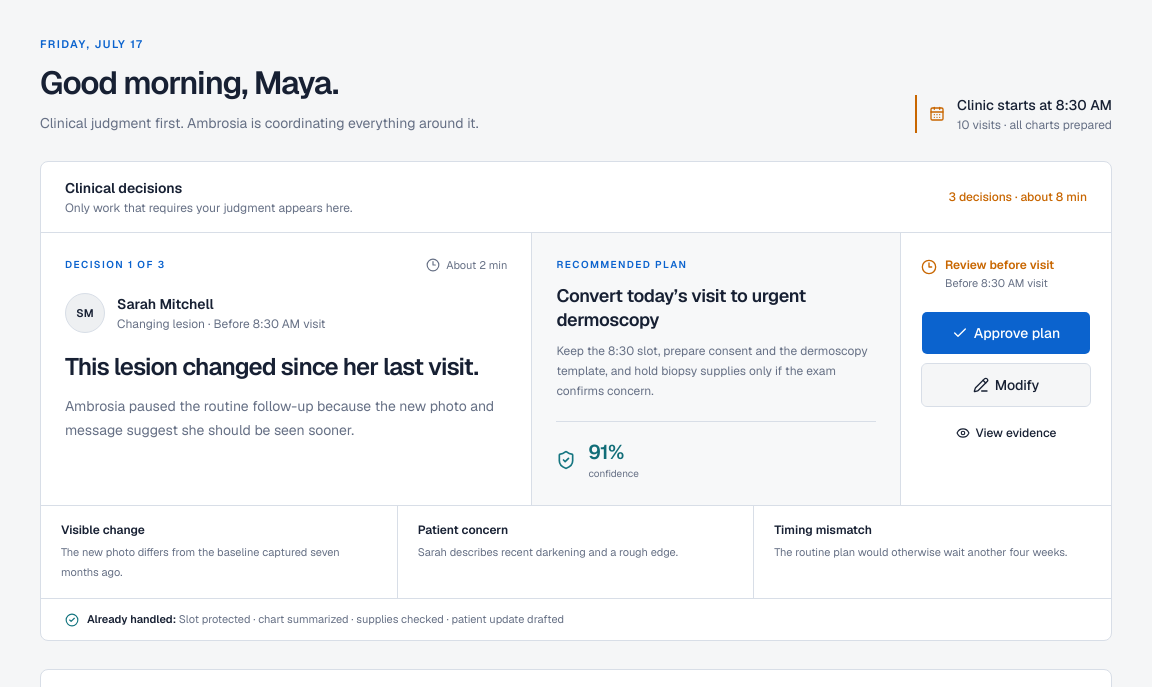
Scenario: TodayScreen › advances immediately to the next clinical decision after approval
The image size is (1152, 687).
Click the button "Approve plan".
click(1006, 333)  # box 921,311 -> 1091,355
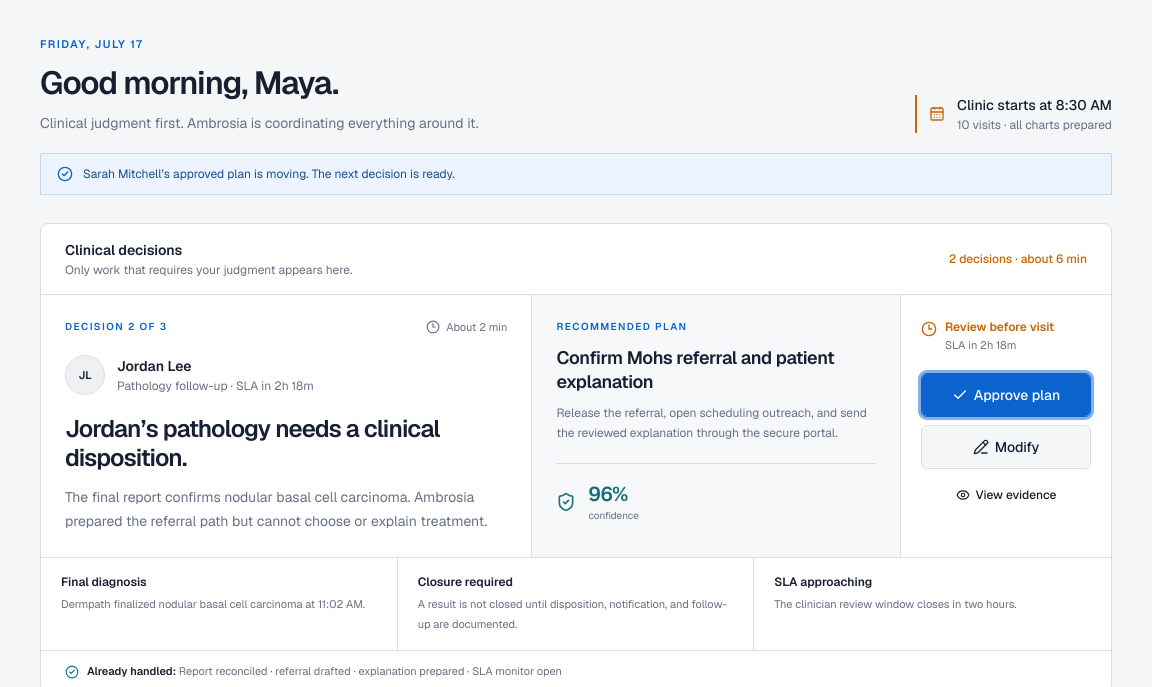
Expected: the message shows "Sarah Mitchell’s approved plan is moving", 40,152 -> 1112,194
Expected: the text "2 decisions · about 6 min" is shown, 949,250 -> 1087,266
Expected: the heading "Jordan’s pathology needs a clinical disposition." is shown, 65,413 -> 440,473
